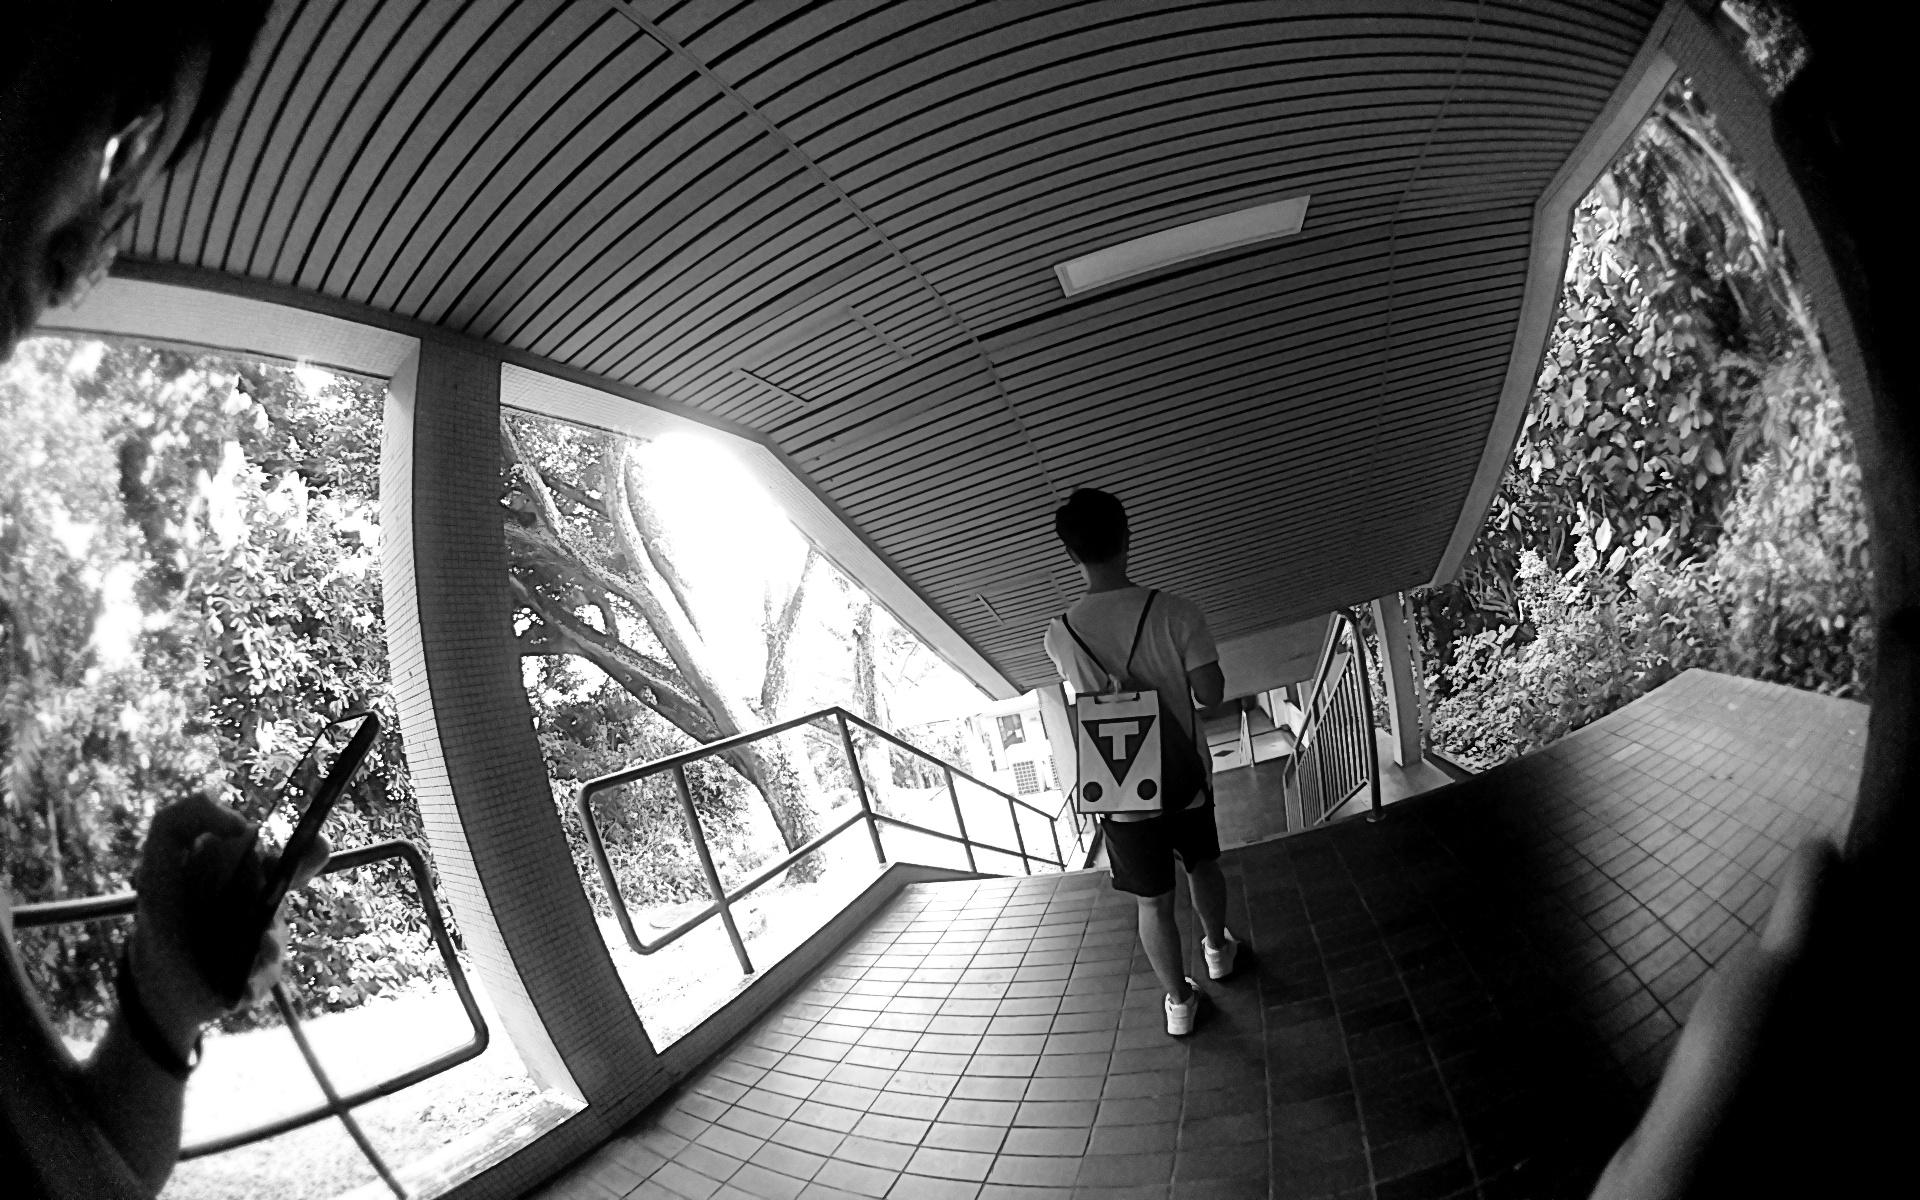continue_forward: (250, 766, 525, 1012), (1425, 261, 1581, 373)
fly_lower: (182, 98, 402, 311), (1078, 709, 1161, 805)
